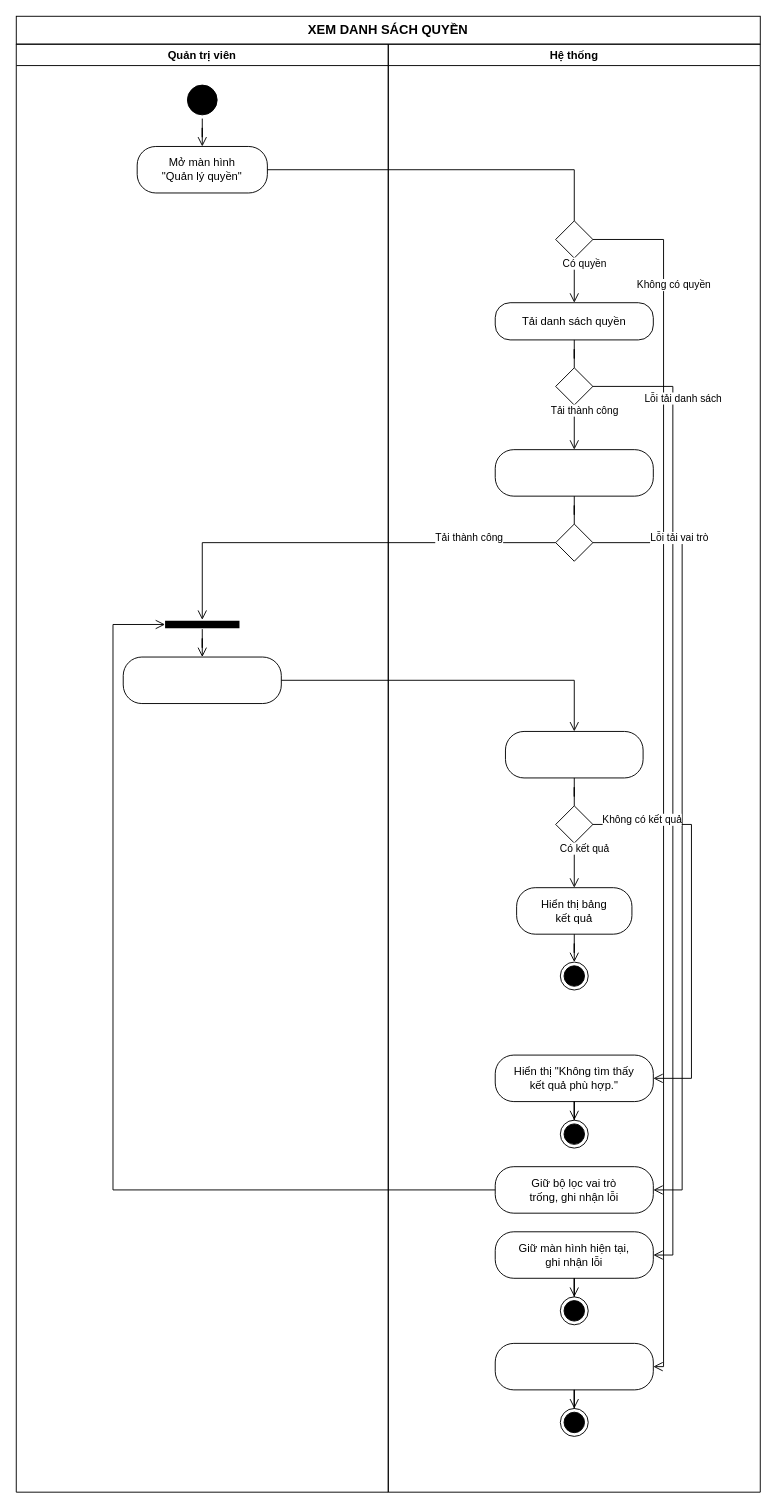
This 777x1508 diagram has some shape labels left out. The shapes that lost their labels are listed below. From the top down, each one's centre as x and y in pixels, then its label:
pixel 573 472: Tải danh sách vai trò để hiển thị bộ lọc
pixel 201 680: Tìm kiếm, lọc theo vai trò, sắp xếp cột, chuyển trang
pixel 574 754: Cập nhật bảng dữ liệu tương ứng
pixel 573 1366: Hiện toast "Tài khoản không có quyền thực hiện chức năng này"
